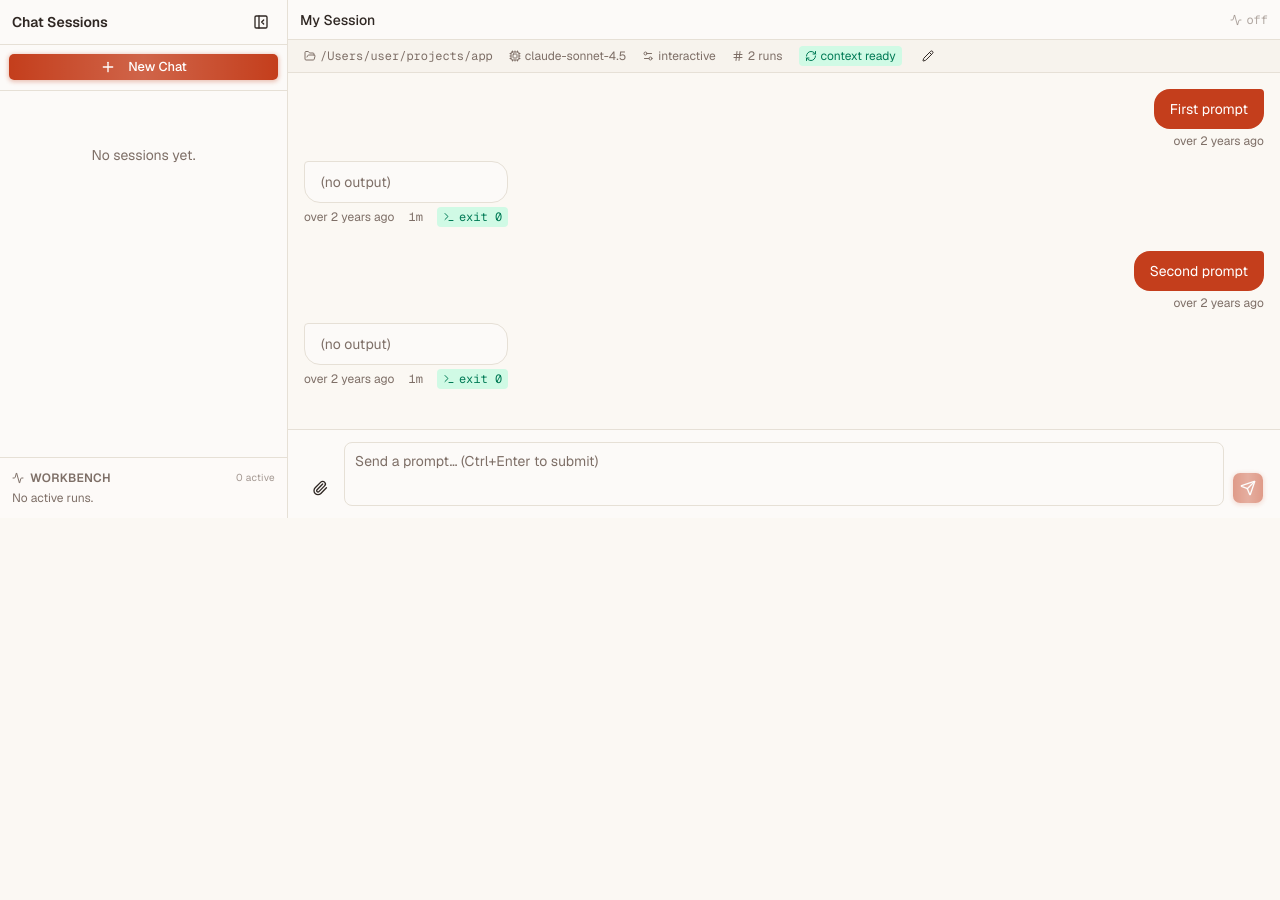
it: WorkspacePicker — hidden-folder toggle › toggle button switches to 'Hide hidden folders' when activated
The image size is (1280, 900).
Click the button with aria-label "New chat session" at [144, 67], box [8, 53, 279, 81]
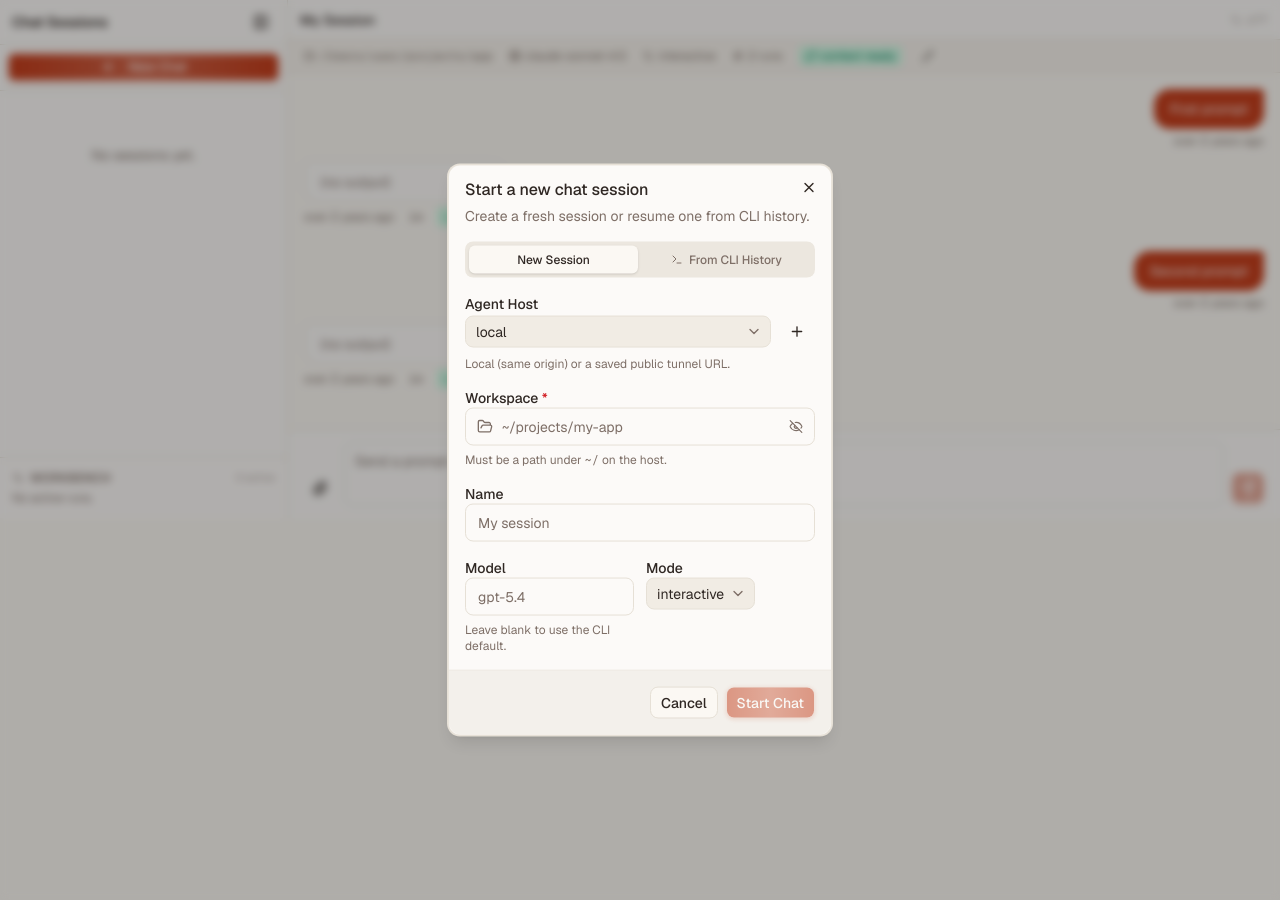
Click the button named "Show hidden folders" at [796, 426], box [785, 416, 807, 438]
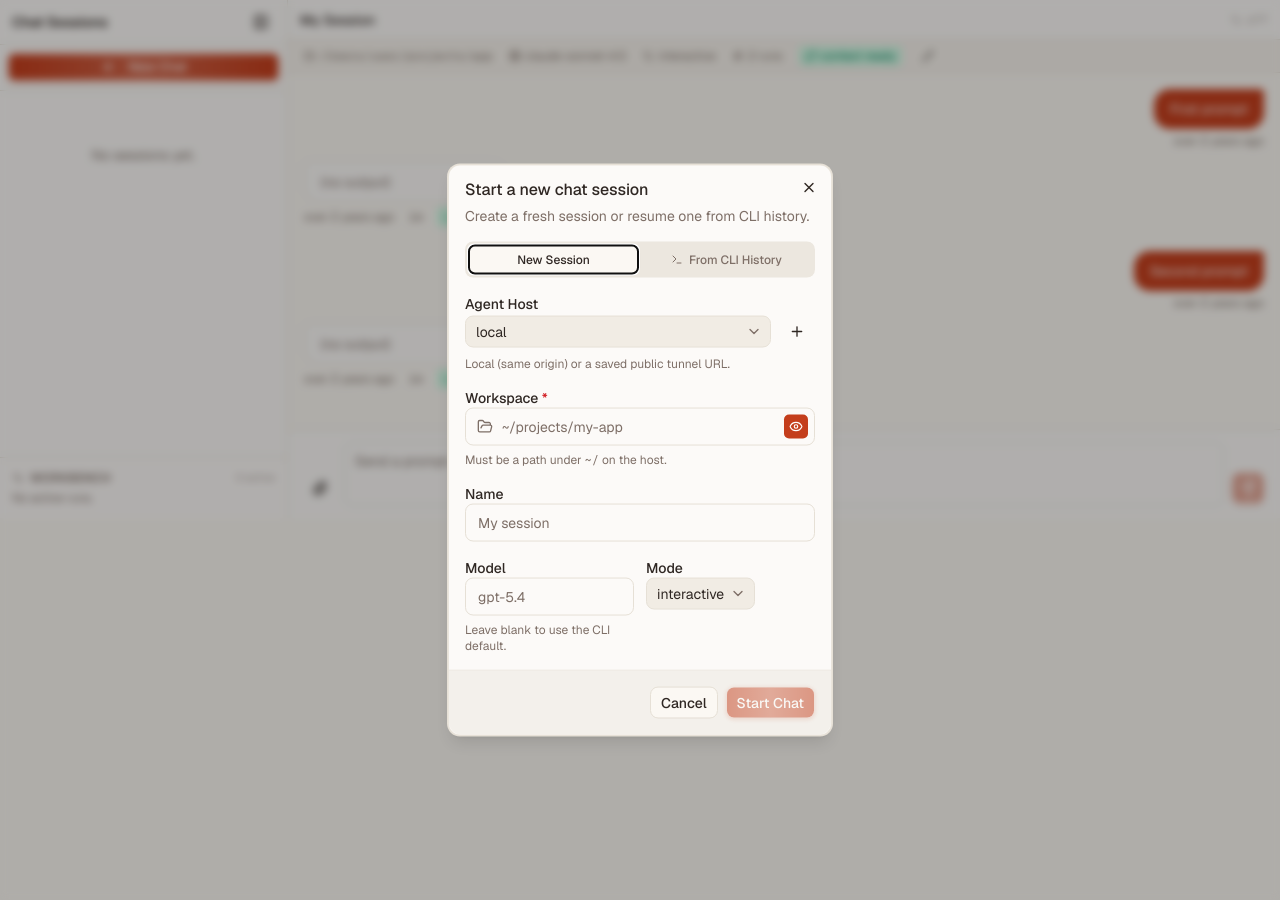
expect the button named "Hide hidden folders" is shown: met, box [785, 416, 807, 438]
